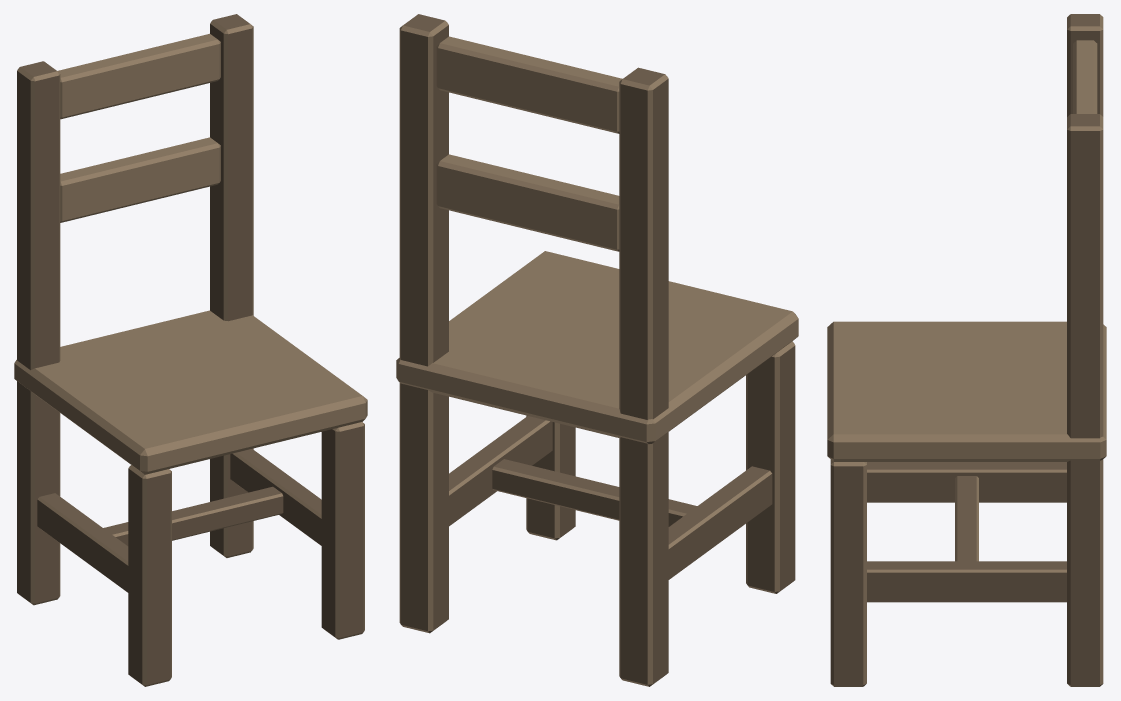
Rendered from chair.glb.
3 renders of one model, left to right at view 1: azimuth 30°, elevation 25°; view 2: azimuth 150°, elevation 25°; view 3: azimuth 270°, elevation 25°, orthographic. The views are drawn at different scales.
Visible parts, largest first — view 1: Chair; view 2: Chair; view 3: Chair.
Part boxes in pixels (bbox=[...]): Chair: bbox=[14, 14, 367, 686]; Chair: bbox=[396, 14, 798, 686]; Chair: bbox=[827, 14, 1106, 686].
Bounding box in the file's own units: 0.46 × 1.02 × 0.46.
